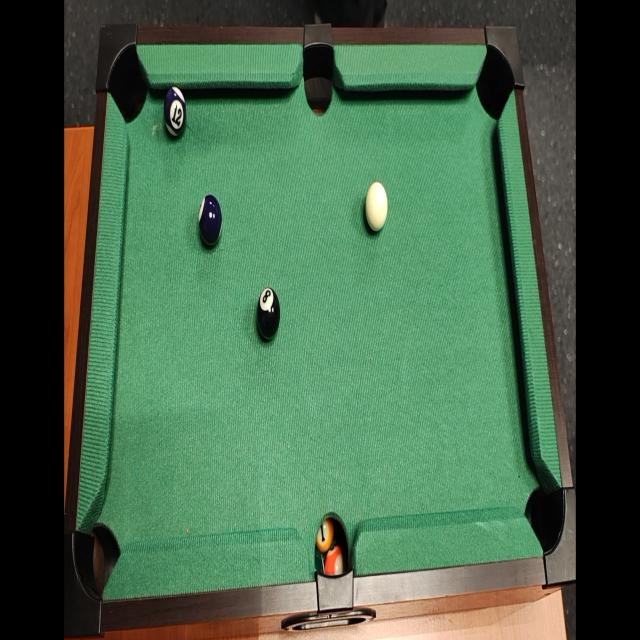cue ball: (364, 179, 391, 234)
other: (253, 283, 283, 344), (197, 192, 225, 253), (162, 80, 188, 142)
